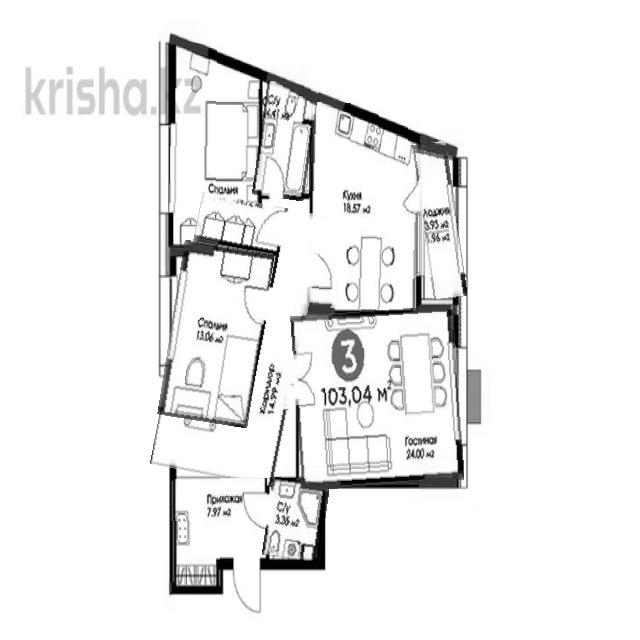balcony: (411, 145, 467, 300)
bathroom: (256, 82, 316, 199), (265, 478, 327, 561)
hallway: (153, 210, 326, 487), (172, 479, 268, 563)
kitchen: (307, 103, 420, 310)
living_room: (293, 307, 462, 488), (164, 242, 267, 425), (170, 44, 262, 248)
